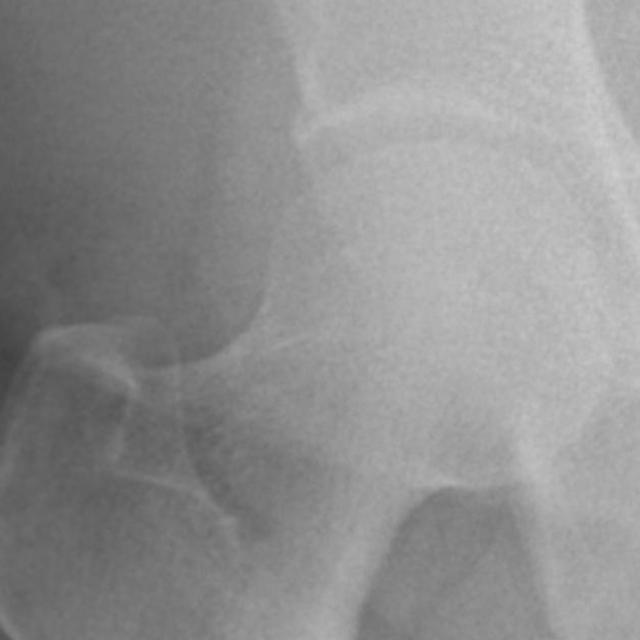Fitted_femural_head: (363, 139, 432, 363)
